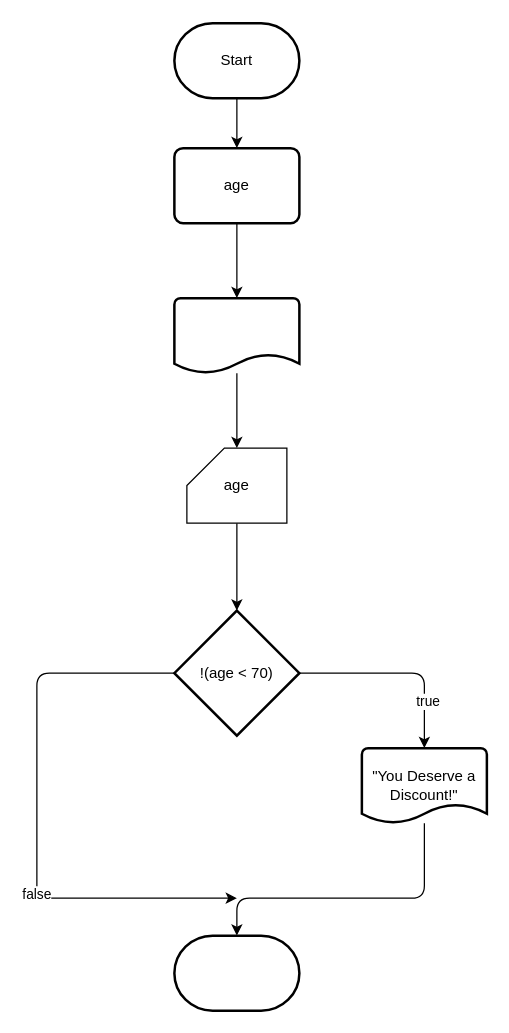
Some shapes in this 509 by 1033 pixel diagram are drawn without their labels. Here are the shapes that lost their labels. From the top down, the centre of each, then its label:
point 236,335: "Enter your age:"
point 236,972: Stop
